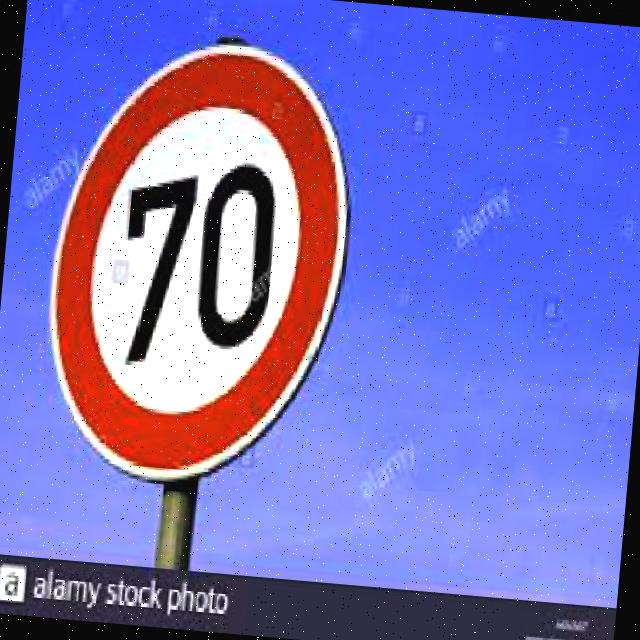Ograniczenie predkosci do 70: (36, 33, 360, 504)
